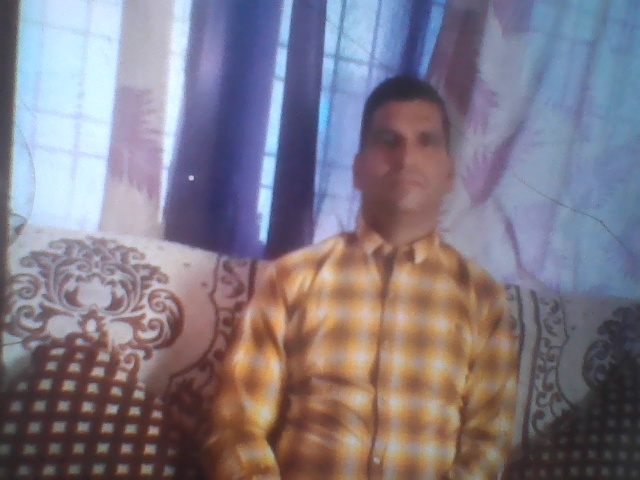fake: (343, 45, 476, 233)
